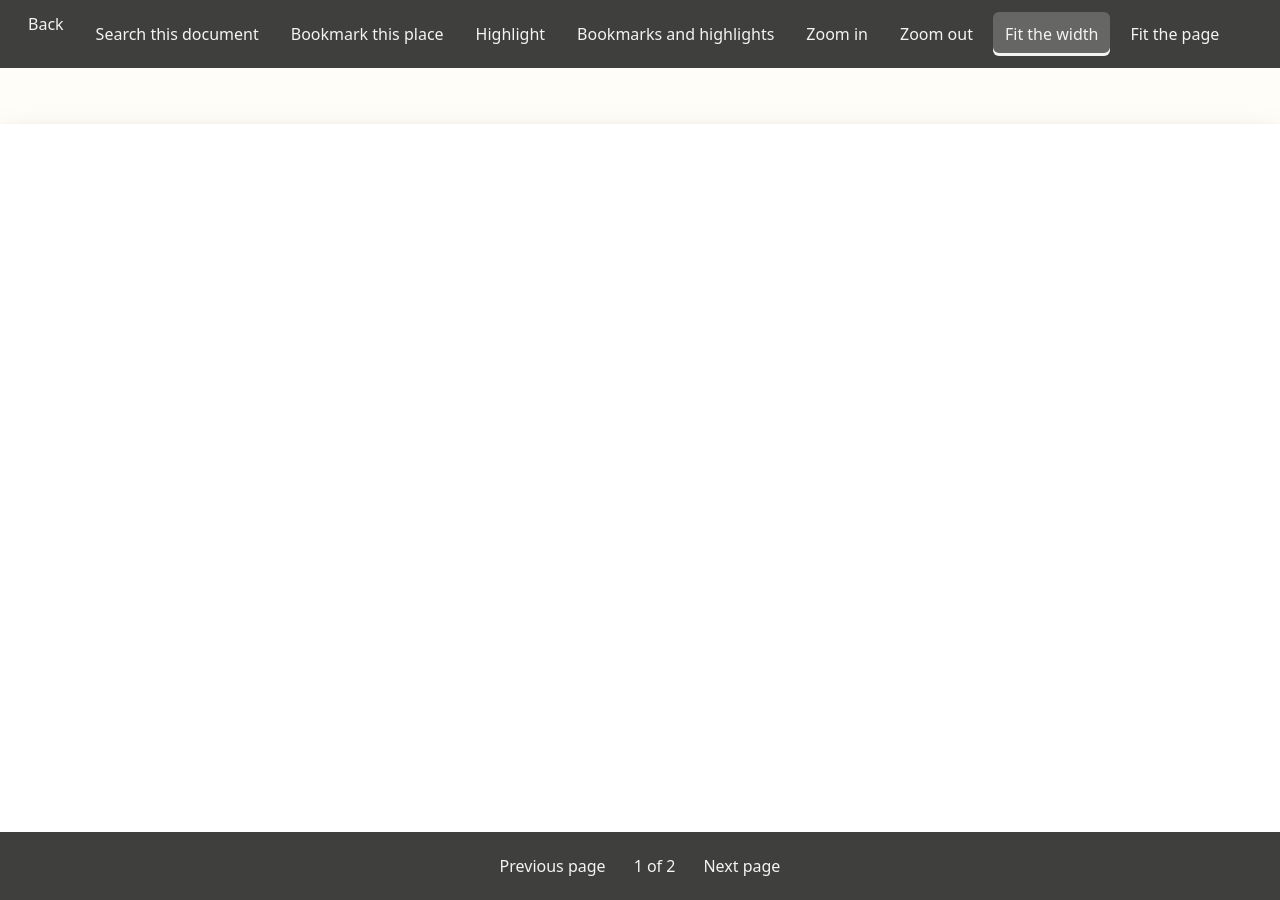
Test: Book Reader (PDF) › reports a failed PDF bookmark and retries the same page
Expected: the message reads "1 of 2", [634,855,675,877]
Click the button "Bookmark this place" at (367, 34), box [279,12,456,56]
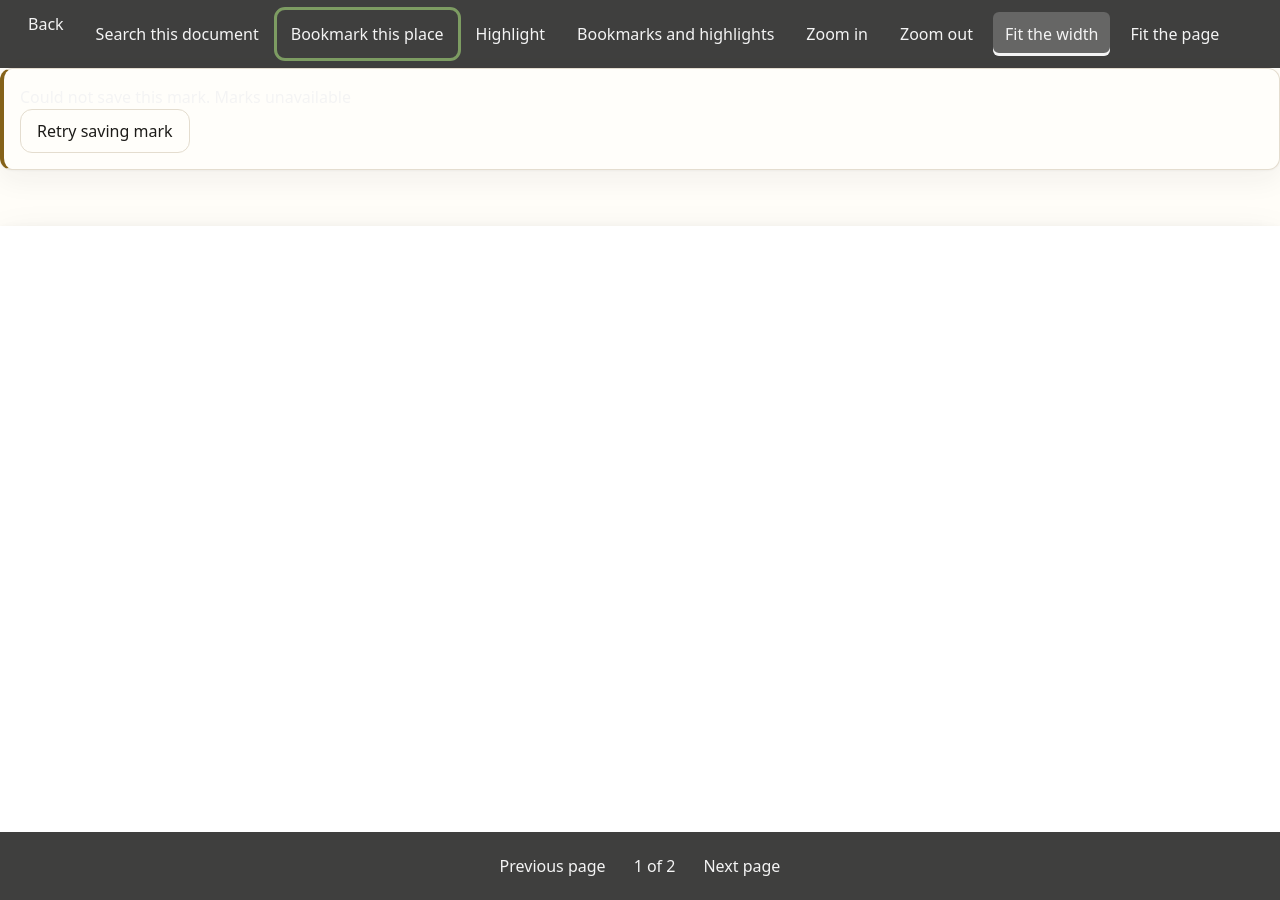
Expected: the message "Could not save this mark. Marks unavailable" is shown, [20,86,351,108]
Click the button "Retry saving mark" at (105, 131), box [20,109,190,153]
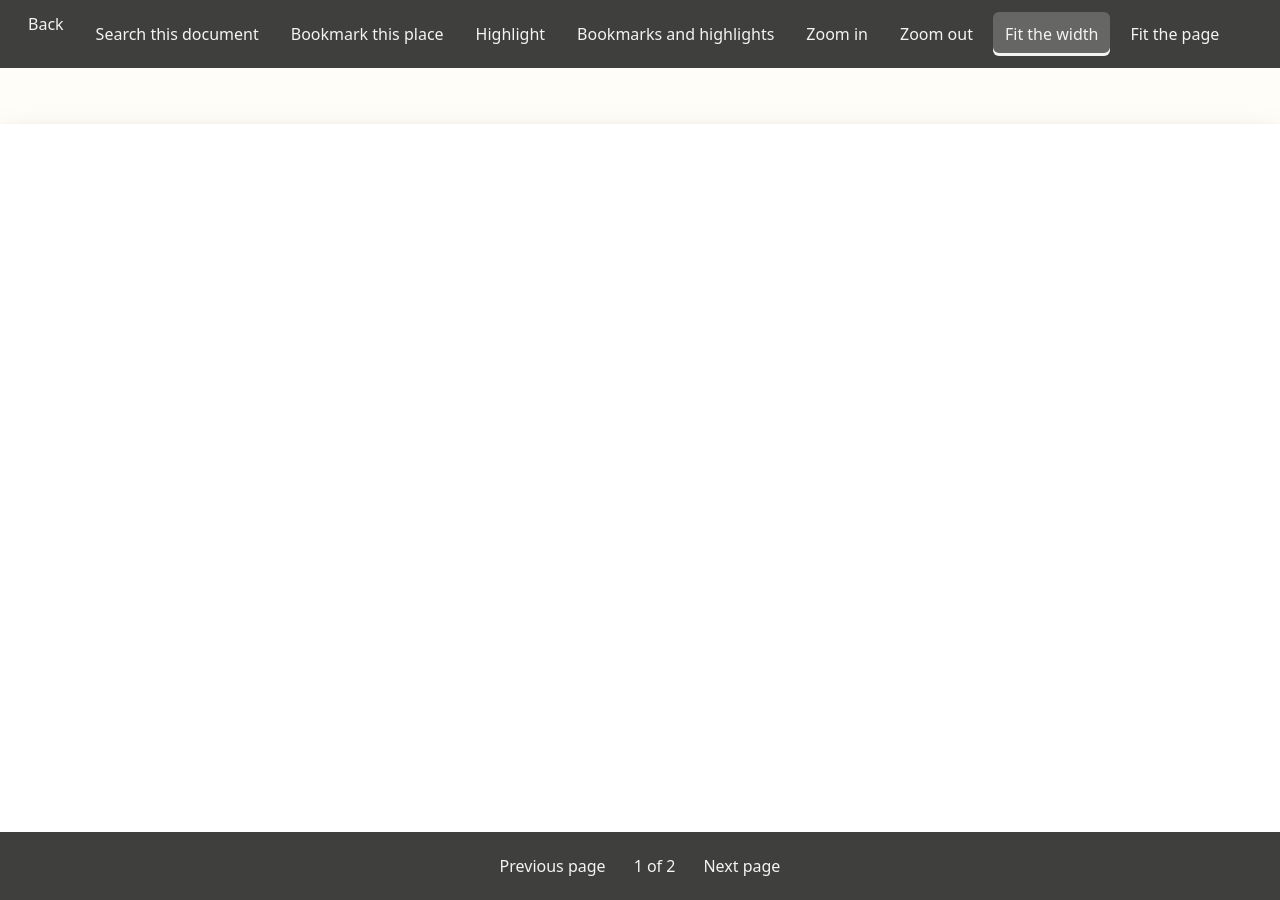
Now the message "Could not save this mark. Marks unavailable" is gone
